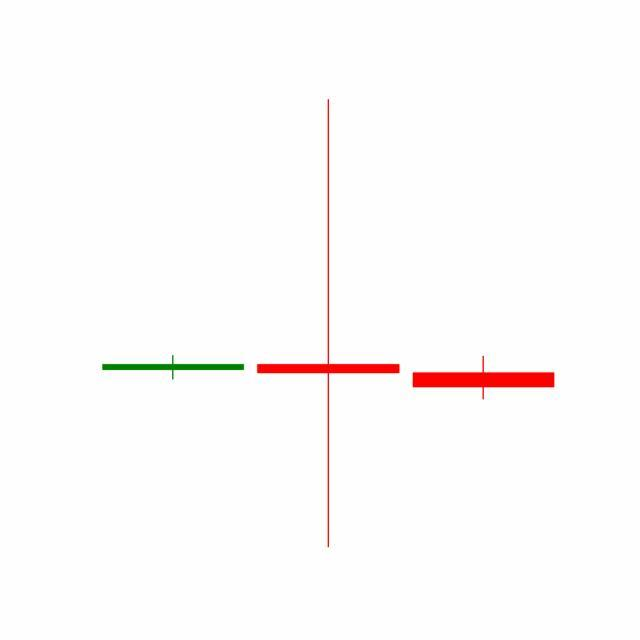Gravestone Doji: (406, 356, 562, 402)
